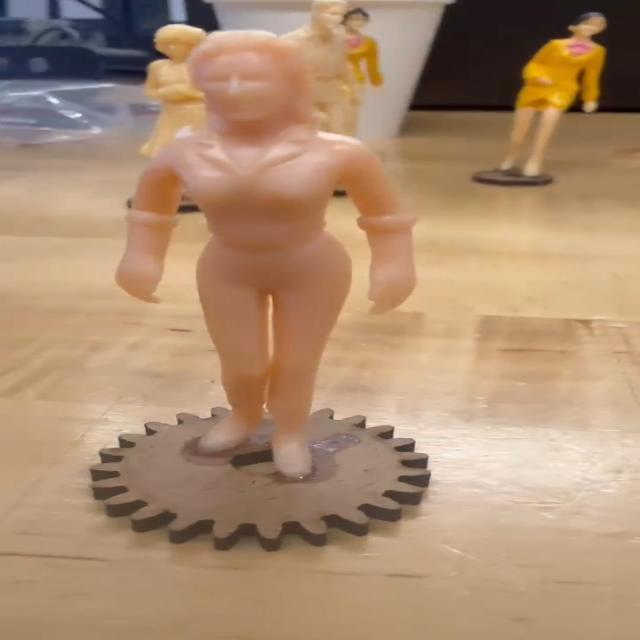Unauthorized: (99, 16, 449, 486)
